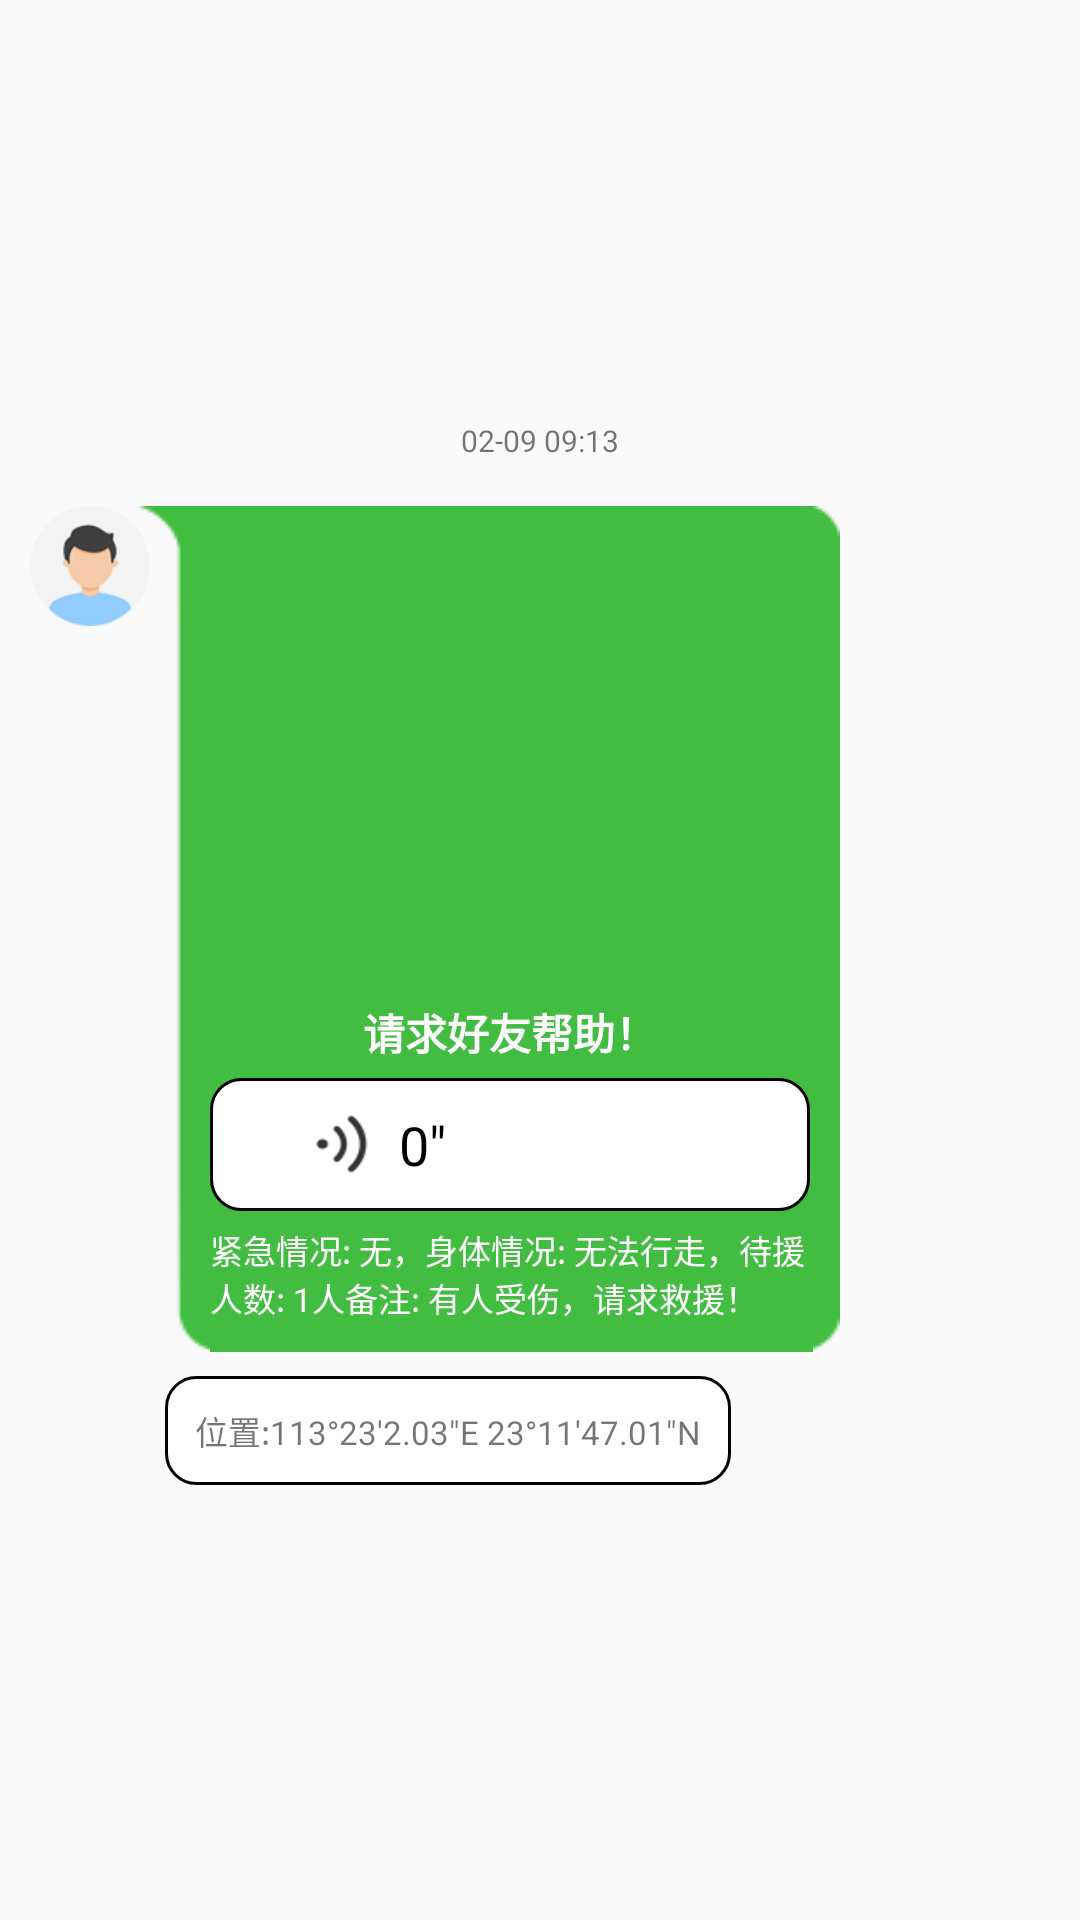

Icon bounding boxes for this 1080 x 1920 phone screenshot, format rect(x1, y1, x2, y2):
anim voice left play: rect(316, 1115, 368, 1173)
